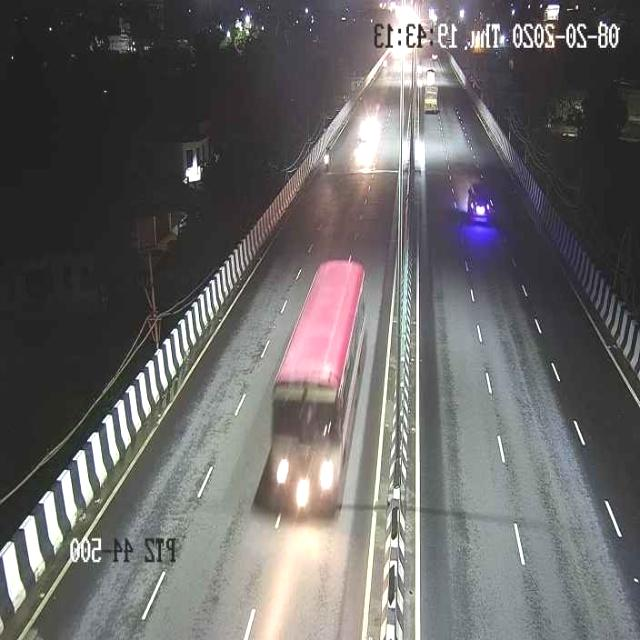car: (462, 183, 497, 226), (423, 79, 444, 116)
